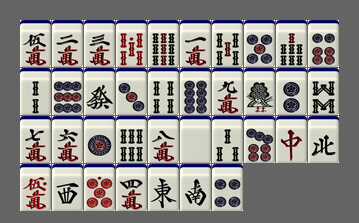0m: (20, 164, 51, 211)
0p: (84, 164, 115, 211)
0s: (116, 20, 147, 67)
1m: (180, 20, 211, 67)
1p: (84, 116, 115, 163)
1s: (244, 68, 275, 115)
1z: (148, 164, 179, 211)
2m: (52, 20, 83, 67)
2p: (276, 68, 307, 115)
2s: (20, 68, 51, 115)
2z: (180, 164, 211, 211)
3m: (84, 20, 115, 67)
3p: (116, 68, 147, 115)
3s: (212, 116, 243, 163)
3z: (52, 164, 83, 211)
4m: (116, 164, 147, 211)
4p: (212, 164, 243, 211)
4s: (148, 68, 179, 115)
4z: (308, 116, 339, 163)
5m: (20, 20, 51, 67)
5p: (244, 20, 275, 67)
5s: (212, 20, 243, 67)
5z: (180, 116, 211, 163)
6m: (52, 116, 83, 163)
6p: (308, 20, 339, 67)
6s: (116, 116, 147, 163)
6z: (84, 68, 115, 115)
7m: (20, 116, 51, 163)
7p: (244, 116, 275, 163)
7s: (276, 20, 307, 67)
7z: (276, 116, 307, 163)
8m: (148, 116, 179, 163)
8p: (180, 68, 211, 115)
8s: (308, 68, 339, 115)
9m: (212, 68, 243, 115)
9p: (52, 68, 83, 115)
9s: (148, 20, 179, 67)
